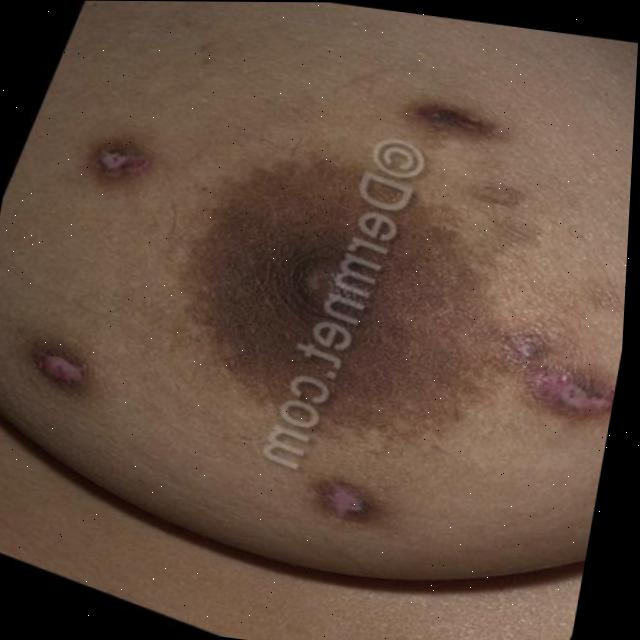Eczema: (494, 336, 612, 414), (75, 128, 144, 196), (36, 336, 113, 394), (414, 96, 473, 140), (316, 471, 368, 510)
